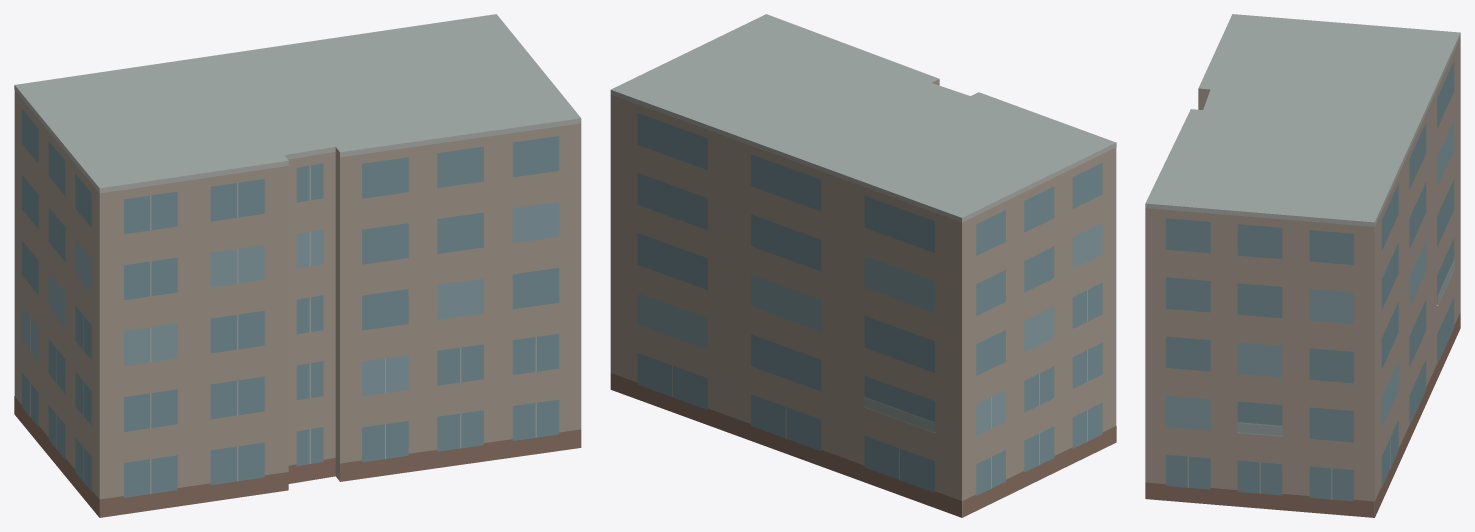
Rendered from survey-upis-33009112.glb.
The picture shows the model from 3 angles, left to right: view 1: azimuth 30°, elevation 25°; view 2: azimuth 150°, elevation 25°; view 3: azimuth 270°, elevation 25°; orthographic projection. The views are drawn at different scales.
Parts seen in each view (by area): view 1: survey-upis-33009112.tmp; view 2: survey-upis-33009112.tmp; view 3: survey-upis-33009112.tmp.
Part boxes in pixels (box(x1,y1,x2,y2)): survey-upis-33009112.tmp: box(14, 14, 581, 517); survey-upis-33009112.tmp: box(610, 14, 1116, 517); survey-upis-33009112.tmp: box(1145, 14, 1460, 517).
Bounding box in the file's own units: 23.91 × 15.8 × 15.29.
